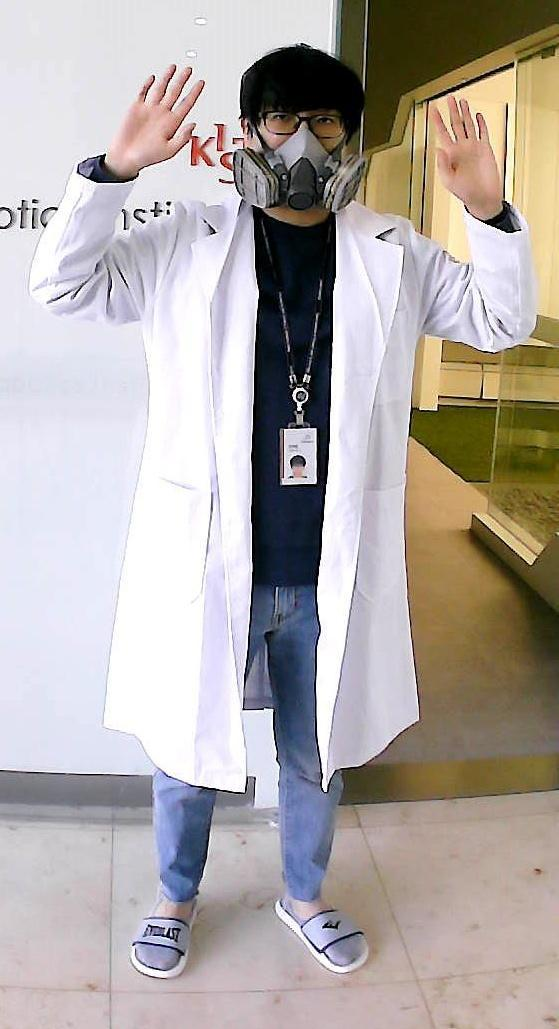lab_coat: (106, 224, 434, 762)
